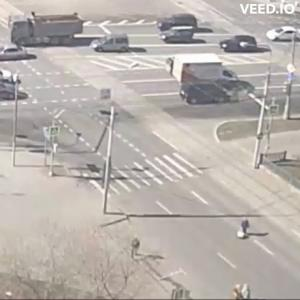car: (7, 14, 83, 48), (179, 60, 239, 84), (184, 83, 232, 106), (93, 35, 133, 58), (154, 27, 200, 46), (220, 35, 262, 54), (160, 15, 199, 29), (268, 28, 300, 44), (1, 47, 29, 64), (1, 86, 30, 100), (1, 72, 21, 86)
